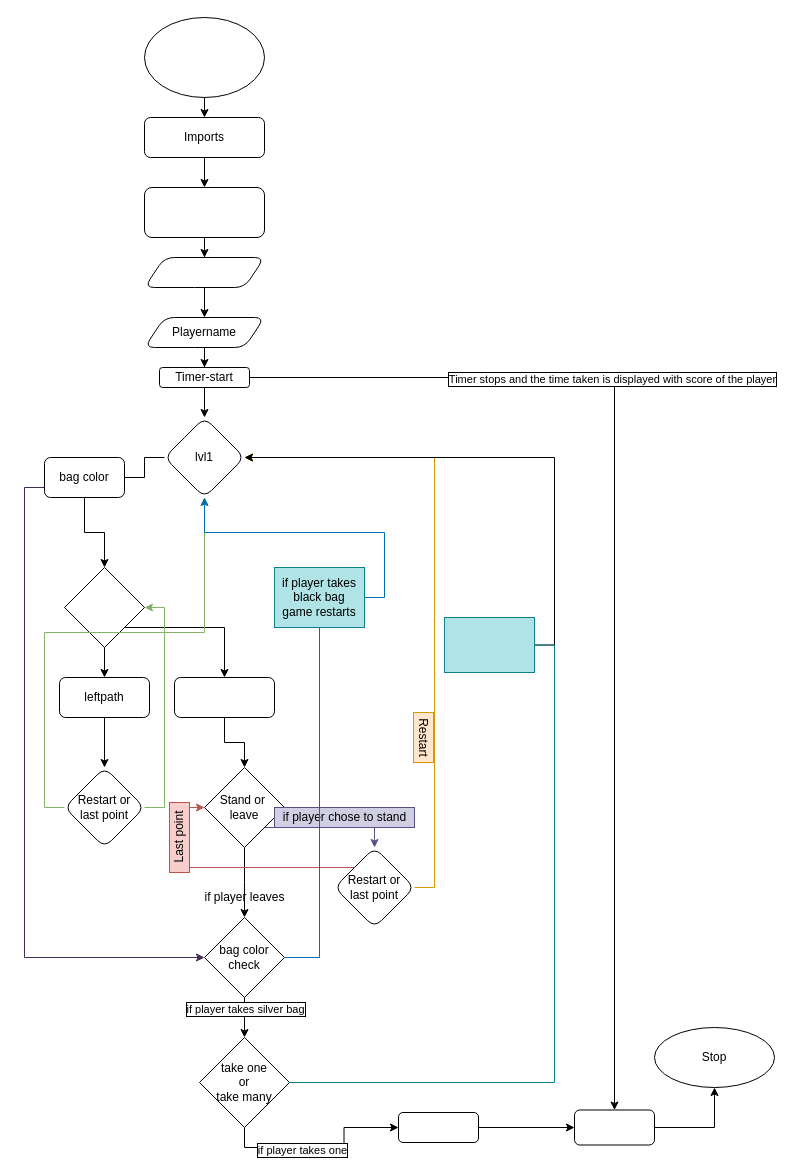
This 794x1175 diagram has some shape labels left out. Each missing label, with the centre of its shape:
Database and table creation + connection: the point at 204,212
If player takes many then the game ends and restarts: the point at 489,644
lvl2: the point at 104,607
Play: the point at 204,272
Player wins: the point at 438,1127
rightpath: the point at 224,697
Score: the point at 614,1127
Start: the point at 204,57
